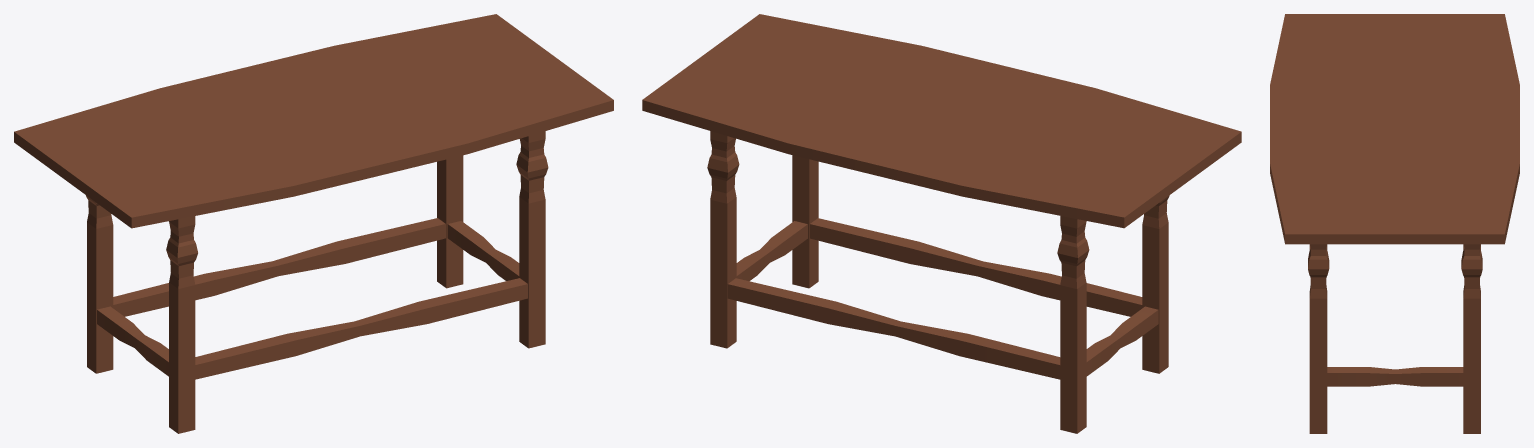
File: table 01.fbx
3 renders of one model, left to right at view 1: azimuth 30°, elevation 25°; view 2: azimuth 150°, elevation 25°; view 3: azimuth 270°, elevation 25°, orthographic. The views are drawn at different scales.
Visible parts, largest first — view 1: table 1; view 2: table 1; view 3: table 1.
Part boxes in pixels (<box>): table 1: <box>14,14,613,433</box>; table 1: <box>642,14,1241,433</box>; table 1: <box>1270,14,1519,433</box>.
Bounding box in the file's own units: 2.31 × 1.1 × 1.11.
